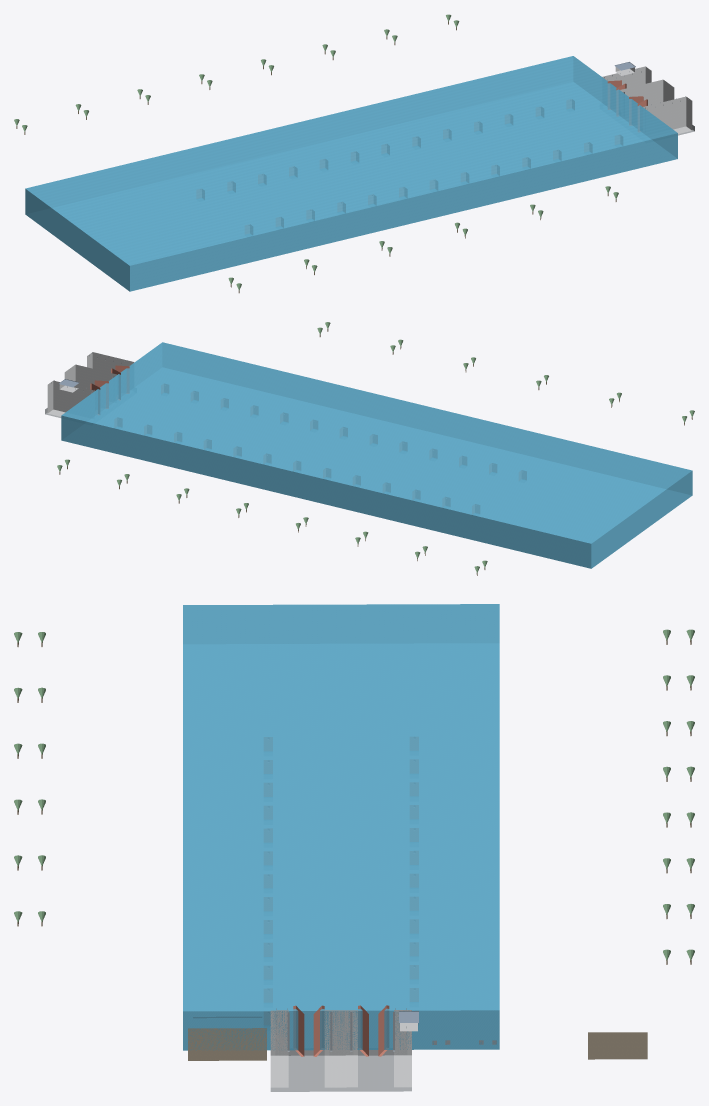
Rendered from madao-z2-upstream.glb.
3 views of the same model, one above another, from view 1: azimuth 30°, elevation 25°; view 2: azimuth 150°, elevation 25°; view 3: azimuth 270°, elevation 25° (orthographic). The views are drawn at different scales.
Visible parts, largest first — view 1: water_water, concreteLight_structure, concrete_structure, tree_detail, gate_gate; view 2: water_water, concreteLight_structure, concrete_structure, tree_detail, gate_gate; view 3: water_water, concrete_structure, earth_structure, concreteLight_structure, concreteDark_structure, gate_gate, tree_detail.
Part boxes in pixels (box(x1,y1,x2,y2)): water_water: box(25, 56, 677, 291); concreteLight_structure: box(602, 66, 692, 133); concrete_structure: box(197, 99, 622, 234); tree_detail: box(14, 14, 618, 290); gate_gate: box(607, 80, 647, 131); water_water: box(61, 342, 692, 568); concreteLight_structure: box(47, 352, 134, 416); concrete_structure: box(115, 384, 526, 514); tree_detail: box(57, 322, 694, 572); gate_gate: box(90, 365, 129, 414); water_water: box(183, 604, 499, 1050); concrete_structure: box(264, 737, 418, 1055); earth_structure: box(188, 1028, 647, 1060); concreteLight_structure: box(270, 1010, 411, 1087); concreteDark_structure: box(270, 1050, 411, 1091); gate_gate: box(293, 1005, 389, 1056); tree_detail: box(14, 629, 694, 960).
Bounding box in the file's own units: 867 × 60.22 × 569.
Materials: 11 (11 with a texture image).
